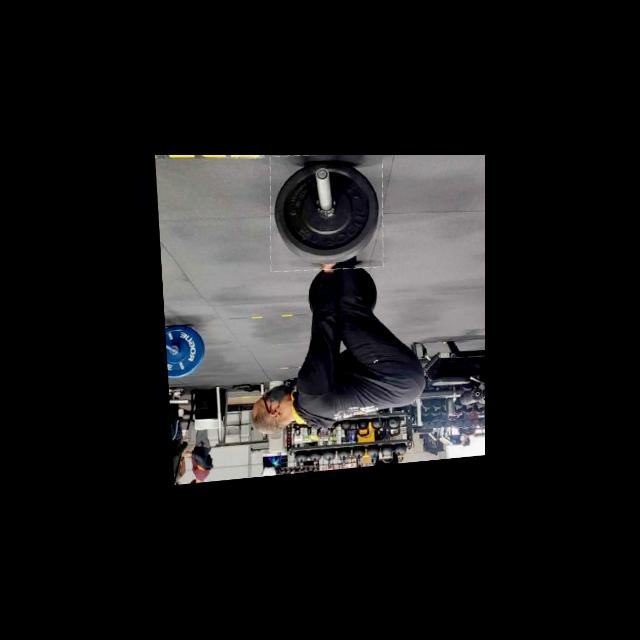barbell: (266, 155, 386, 278)
